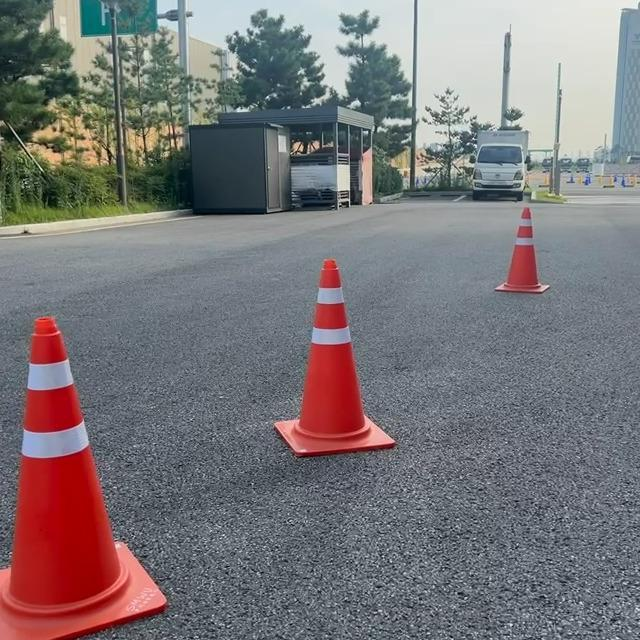fallen_object: (0, 354, 166, 640), (250, 252, 426, 504), (492, 182, 565, 315)
